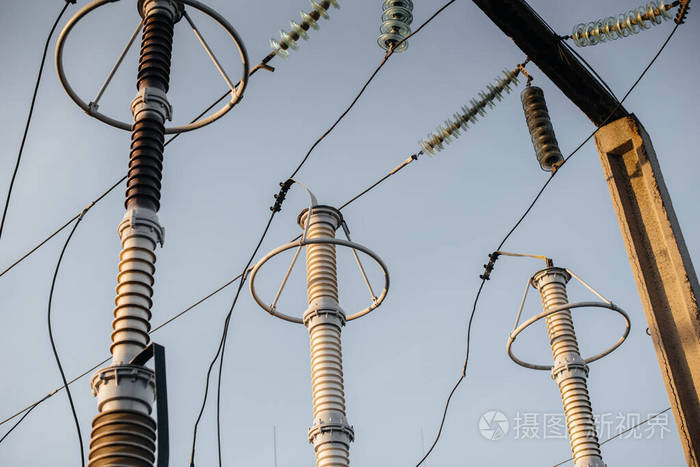insulator: (418, 71, 518, 157), (573, 2, 672, 51), (519, 86, 565, 171), (270, 1, 332, 62), (375, 1, 414, 53)
